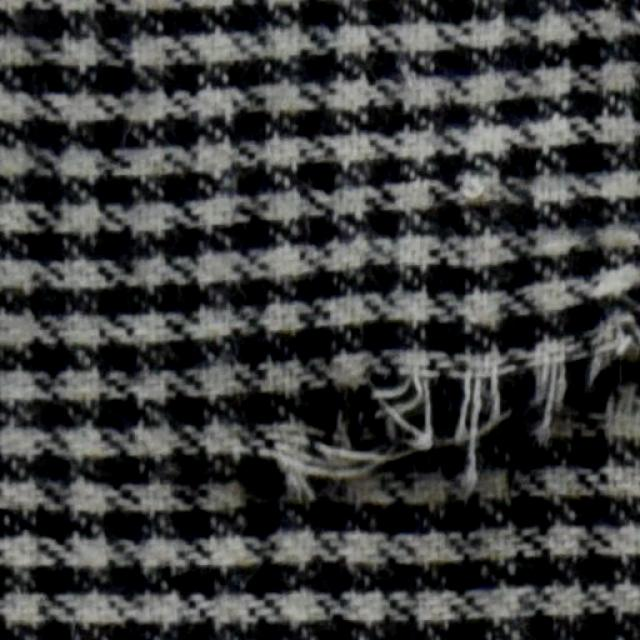Snag: (242, 319, 639, 507)
